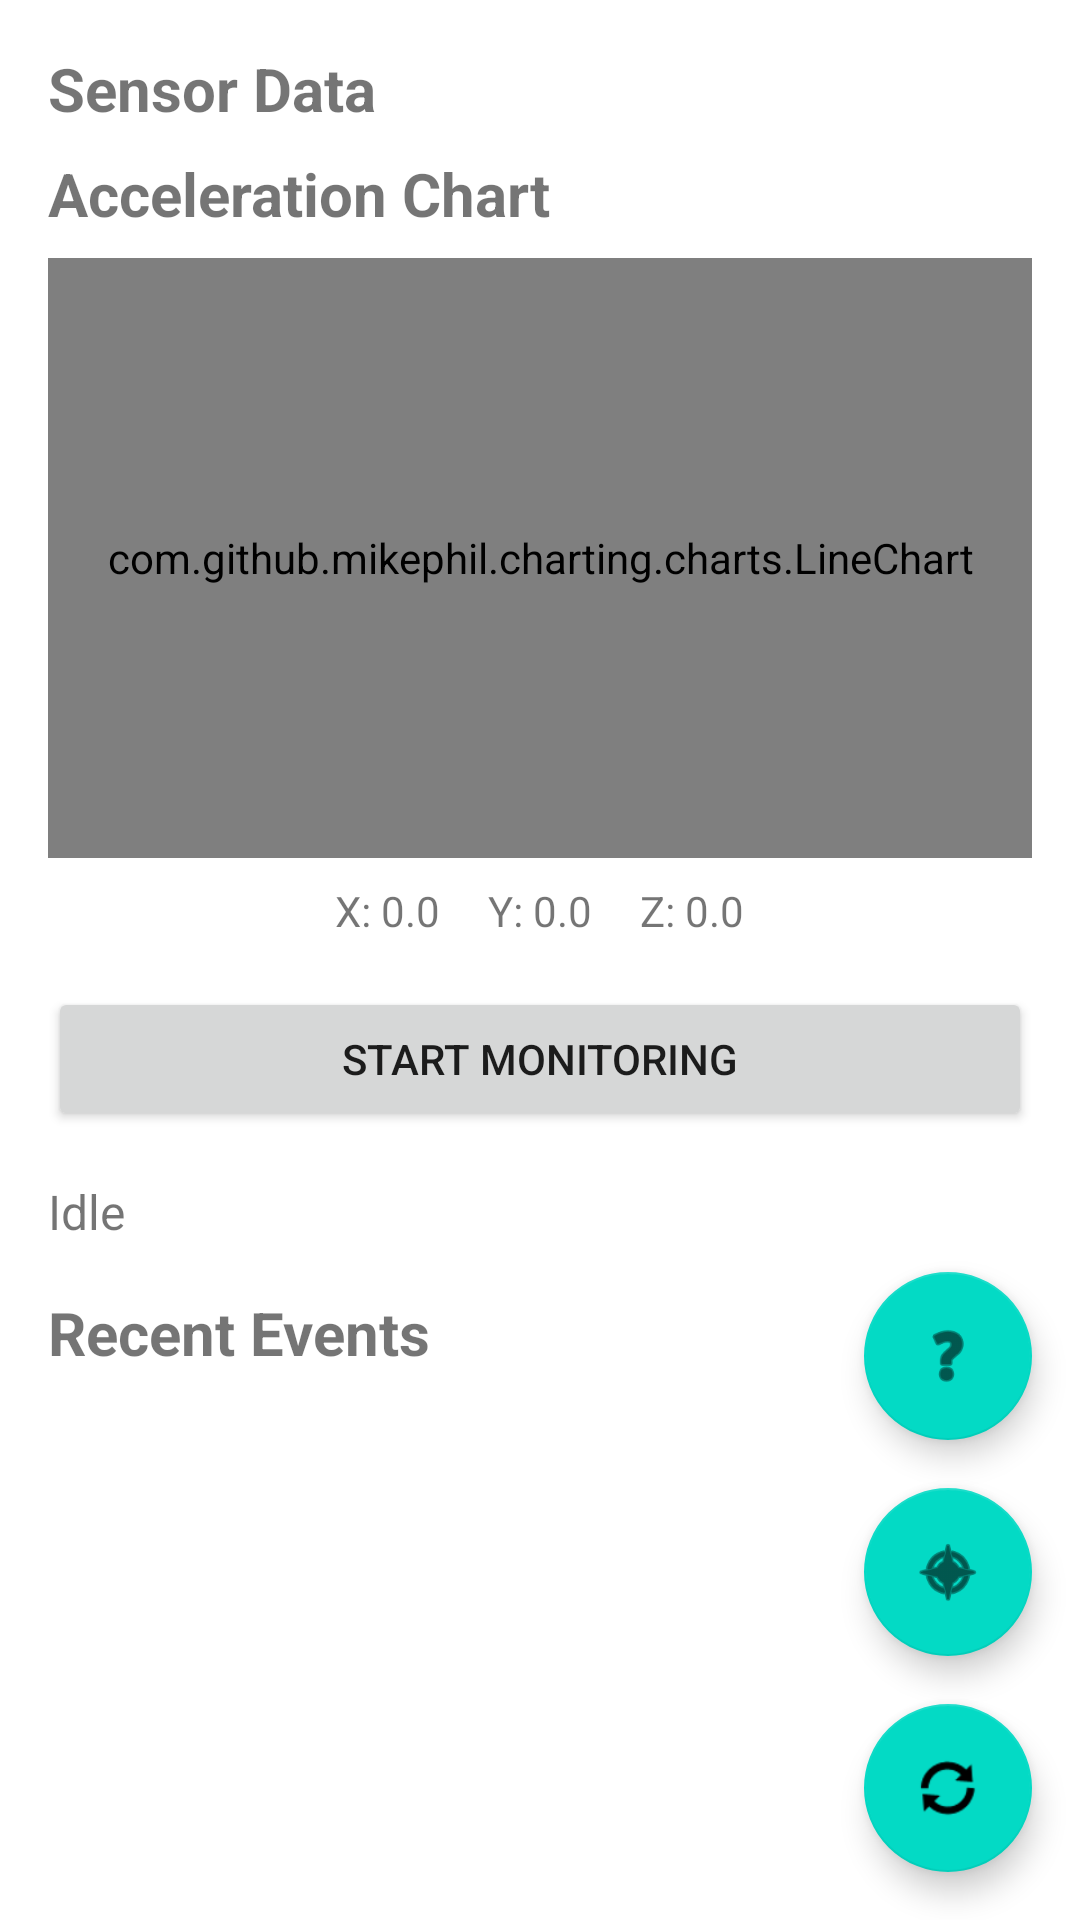

Icon bounding boxes for this 1080x1920 phone screenshot, format (x1, y1, x2, y2):
help: (864, 1272, 1032, 1440)
popup sync: (864, 1704, 1032, 1872)
